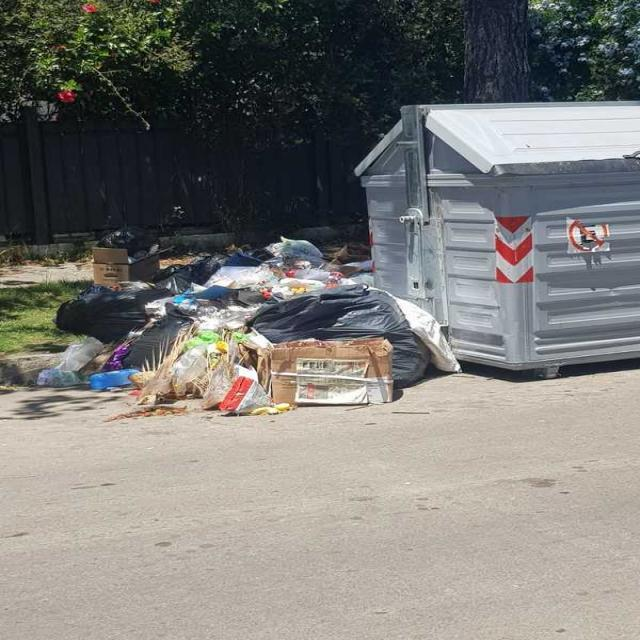garbage: (93, 227, 462, 391), (56, 300, 90, 385), (220, 394, 292, 408)
